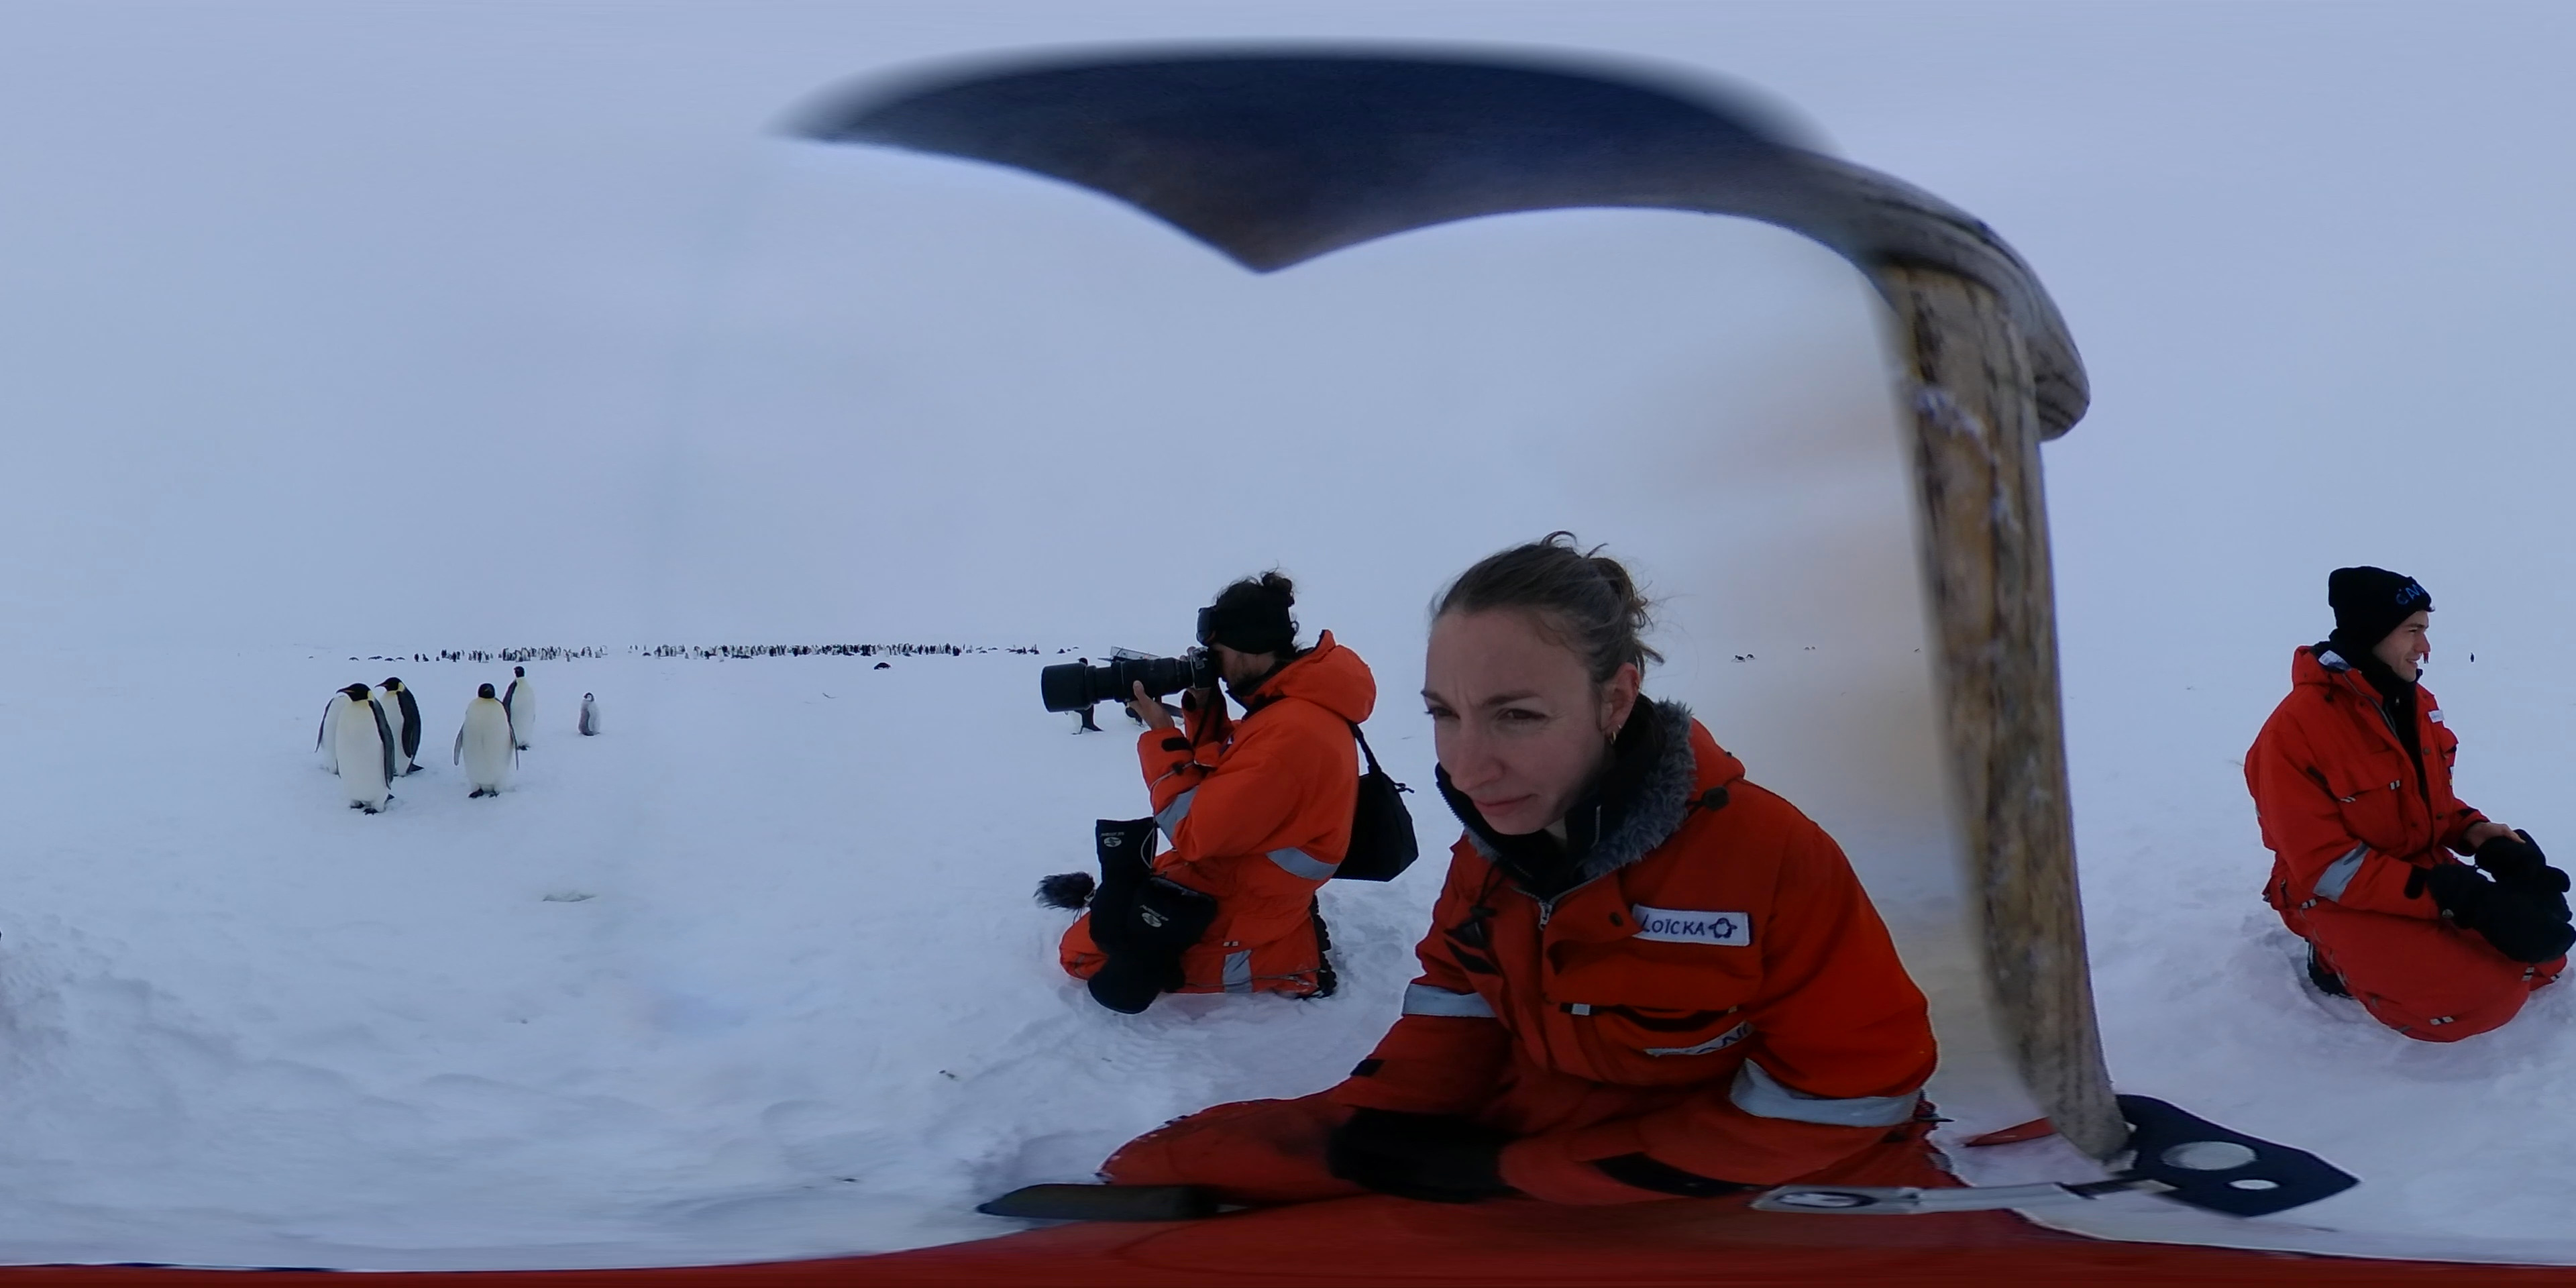adult_standing_penguin: (452, 680, 521, 802), (333, 678, 393, 816), (370, 675, 430, 780), (501, 662, 534, 751)
adult_toboggan_penguin: (867, 659, 897, 670), (1723, 654, 1750, 664)
juvenile_penguin: (577, 687, 603, 739)
researcher: (1084, 527, 1999, 1226), (1015, 563, 1403, 1005), (2241, 562, 2576, 1051)
